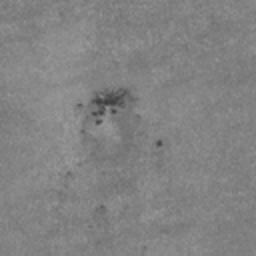Iron sheet ash: (87, 86, 131, 127), (156, 140, 163, 148)
